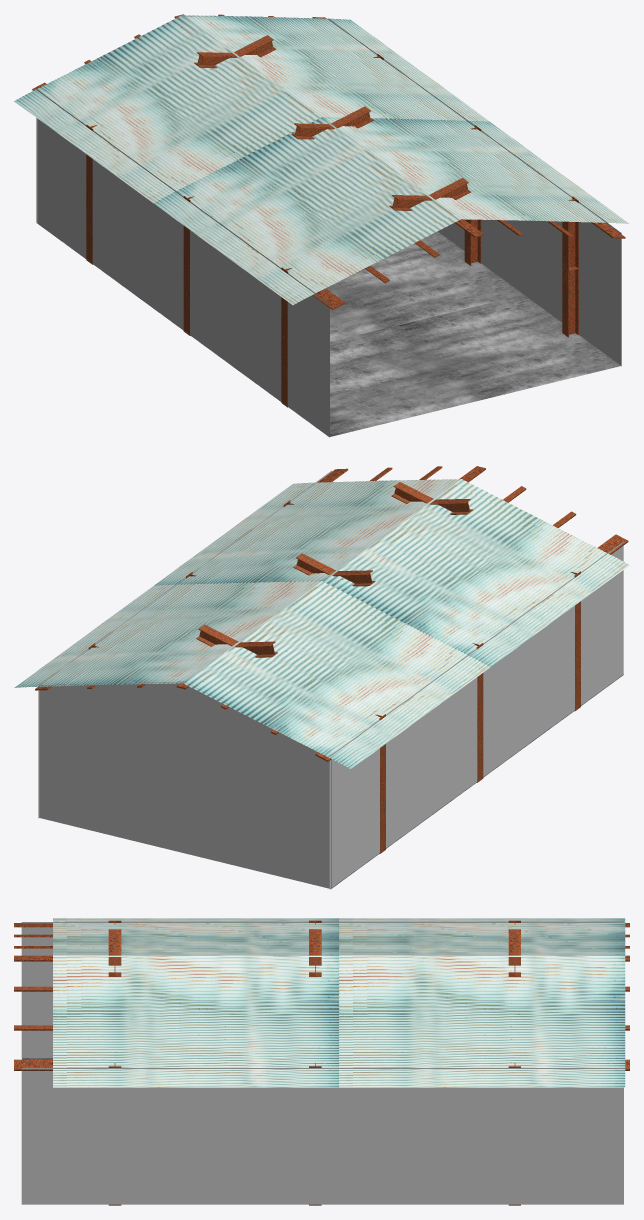
The model's file is souko.fbx.
The picture shows the model from 3 angles, top to bottom: view 1: azimuth 30°, elevation 25°; view 2: azimuth 150°, elevation 25°; view 3: azimuth 270°, elevation 25°; orthographic projection. The views are drawn at different scales.
Parts seen in each view (by area): view 1: yane, yuka, hidari, migi, hasira, tekkotu; view 2: yane, oku, hidari, hasira, tekkotu, migi; view 3: yane, migi, hidari, hasira, tekkotu.
Part boxes in pixels (x1,y1,x2,y2): yane: (14,15,629,305); yuka: (37,223,620,437); hidari: (36,89,329,436); migi: (328,18,621,366); hasira: (86,35,578,407); tekkotu: (32,14,625,309); yane: (14,479,629,768); oku: (39,681,331,888); hidari: (329,542,623,889); hasira: (88,482,580,853); tekkotu: (35,466,628,761); migi: (38,470,331,818); yane: (53,918,625,1087); migi: (21,1068,623,1204); hidari: (21,921,623,1058); hasira: (108,920,520,1205); tekkotu: (14,923,629,1070).
Size of the model in its own units: 75.57 by 38.84 by 117.
